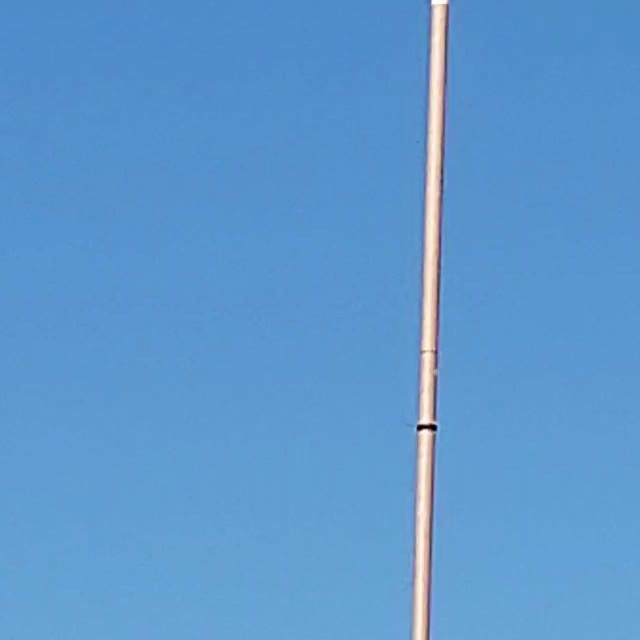rocket: (411, 0, 449, 640)
